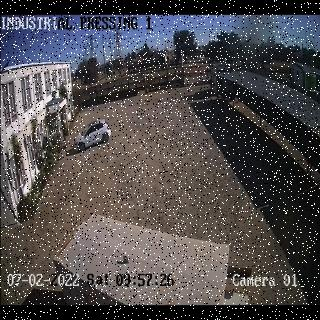car: (72, 120, 110, 151)
